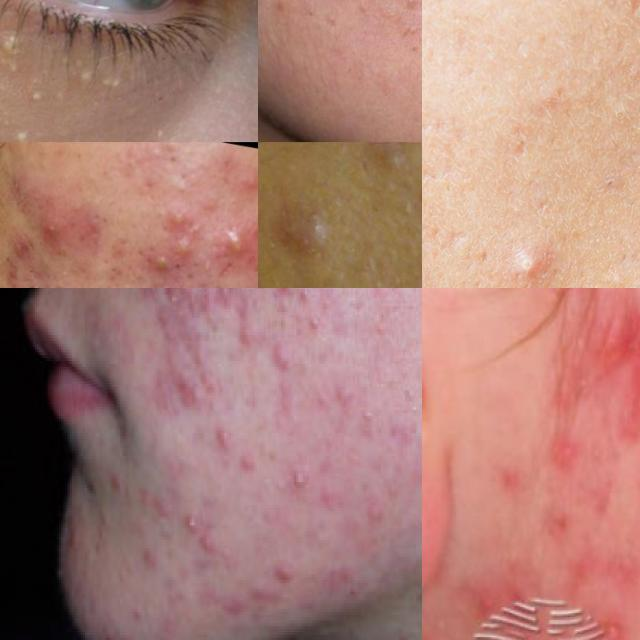acne_scars: (595, 310, 640, 446), (541, 497, 577, 569)
milium: (0, 0, 190, 142)
papule: (23, 203, 75, 257), (214, 154, 258, 212)
pustule: (502, 238, 554, 288), (221, 231, 243, 258), (163, 207, 187, 231), (146, 257, 168, 281), (172, 237, 189, 268)
